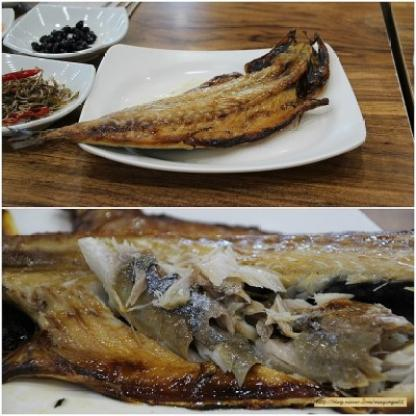Peixe: (10, 218, 416, 402), (27, 30, 356, 178)
